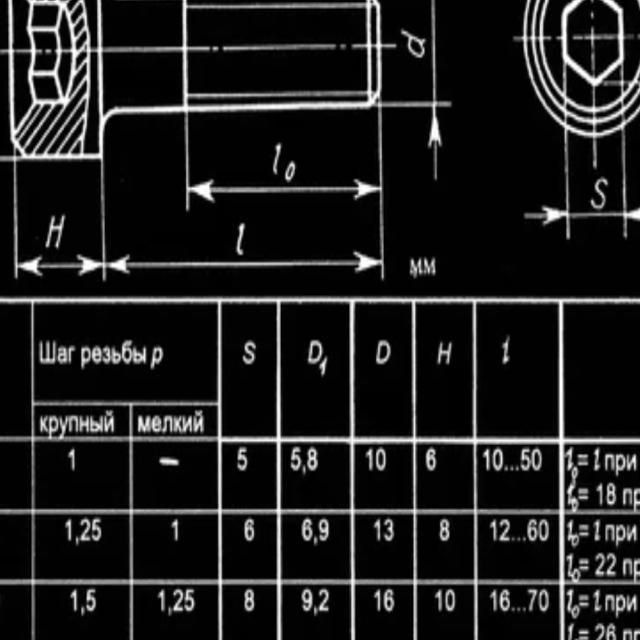marking_line: (99, 162, 388, 279), (182, 112, 384, 211), (380, 2, 451, 178), (522, 139, 640, 237), (10, 163, 107, 282)
numeric: (398, 25, 426, 60), (45, 213, 65, 251), (591, 174, 608, 210), (435, 340, 454, 368), (317, 589, 334, 614), (241, 340, 256, 367), (375, 340, 391, 365), (235, 219, 246, 255), (171, 586, 184, 612), (235, 445, 248, 471), (497, 517, 510, 543), (408, 254, 422, 278), (309, 337, 321, 365), (376, 447, 389, 472), (306, 447, 318, 474), (271, 142, 280, 177), (79, 517, 91, 543), (317, 517, 330, 541), (444, 589, 456, 615), (498, 588, 511, 612), (244, 515, 255, 543), (289, 449, 303, 471), (539, 515, 550, 542), (501, 336, 511, 365), (439, 515, 451, 539), (538, 590, 551, 612), (492, 448, 503, 474), (531, 448, 543, 471), (86, 587, 97, 612), (594, 551, 605, 576), (365, 447, 375, 474), (527, 518, 537, 545), (606, 554, 617, 578), (422, 257, 437, 274), (170, 519, 181, 542), (64, 517, 74, 542), (385, 588, 395, 613), (426, 447, 436, 472), (284, 161, 297, 180), (92, 517, 101, 544), (384, 519, 394, 543), (627, 592, 639, 612), (614, 524, 626, 544), (607, 482, 617, 506), (185, 586, 194, 612), (372, 518, 381, 544), (521, 445, 530, 471), (615, 594, 625, 617), (603, 523, 615, 542), (622, 487, 634, 506), (593, 589, 602, 614), (320, 352, 330, 374), (303, 590, 312, 614), (528, 587, 536, 614), (489, 517, 498, 541), (67, 447, 77, 468), (605, 593, 616, 612), (482, 445, 490, 471), (244, 590, 253, 613), (617, 453, 626, 476), (622, 557, 633, 575), (566, 550, 573, 578), (374, 587, 382, 611), (594, 621, 604, 640), (69, 589, 78, 610), (606, 623, 617, 640), (627, 524, 638, 541), (626, 454, 637, 471), (158, 588, 166, 611), (304, 520, 312, 543), (434, 587, 441, 613), (594, 448, 601, 473), (605, 454, 615, 471), (633, 557, 640, 581), (490, 590, 497, 613), (597, 483, 604, 506), (567, 447, 574, 469), (593, 520, 600, 542), (567, 482, 573, 507), (567, 590, 573, 613), (566, 623, 574, 640), (572, 568, 581, 583), (570, 534, 580, 547), (634, 485, 640, 506), (571, 605, 579, 620), (571, 499, 579, 514), (567, 520, 573, 540), (623, 629, 633, 640), (572, 466, 578, 480), (633, 628, 640, 640)
special_symbol: (577, 627, 589, 640), (578, 557, 589, 571), (578, 454, 590, 466), (579, 524, 590, 537), (579, 593, 589, 607), (579, 488, 589, 500), (314, 535, 318, 547), (503, 464, 509, 472), (515, 464, 519, 472), (512, 607, 517, 613), (522, 607, 527, 613), (522, 537, 527, 543), (510, 464, 514, 471), (517, 607, 521, 614), (511, 536, 516, 541), (517, 536, 521, 542)
